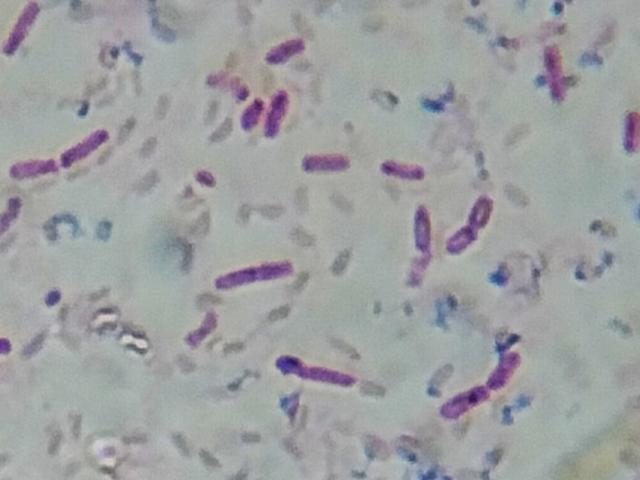E. coli: (275, 350, 360, 391), (216, 255, 297, 292), (437, 377, 489, 417), (66, 128, 116, 168), (379, 146, 426, 188), (4, 0, 40, 53), (539, 41, 569, 103), (297, 146, 351, 177), (264, 84, 295, 134), (406, 199, 433, 256), (6, 150, 55, 181), (484, 346, 521, 387), (264, 40, 309, 71), (446, 219, 477, 258), (3, 192, 31, 234), (620, 107, 640, 158), (467, 195, 494, 231), (242, 90, 261, 130)
